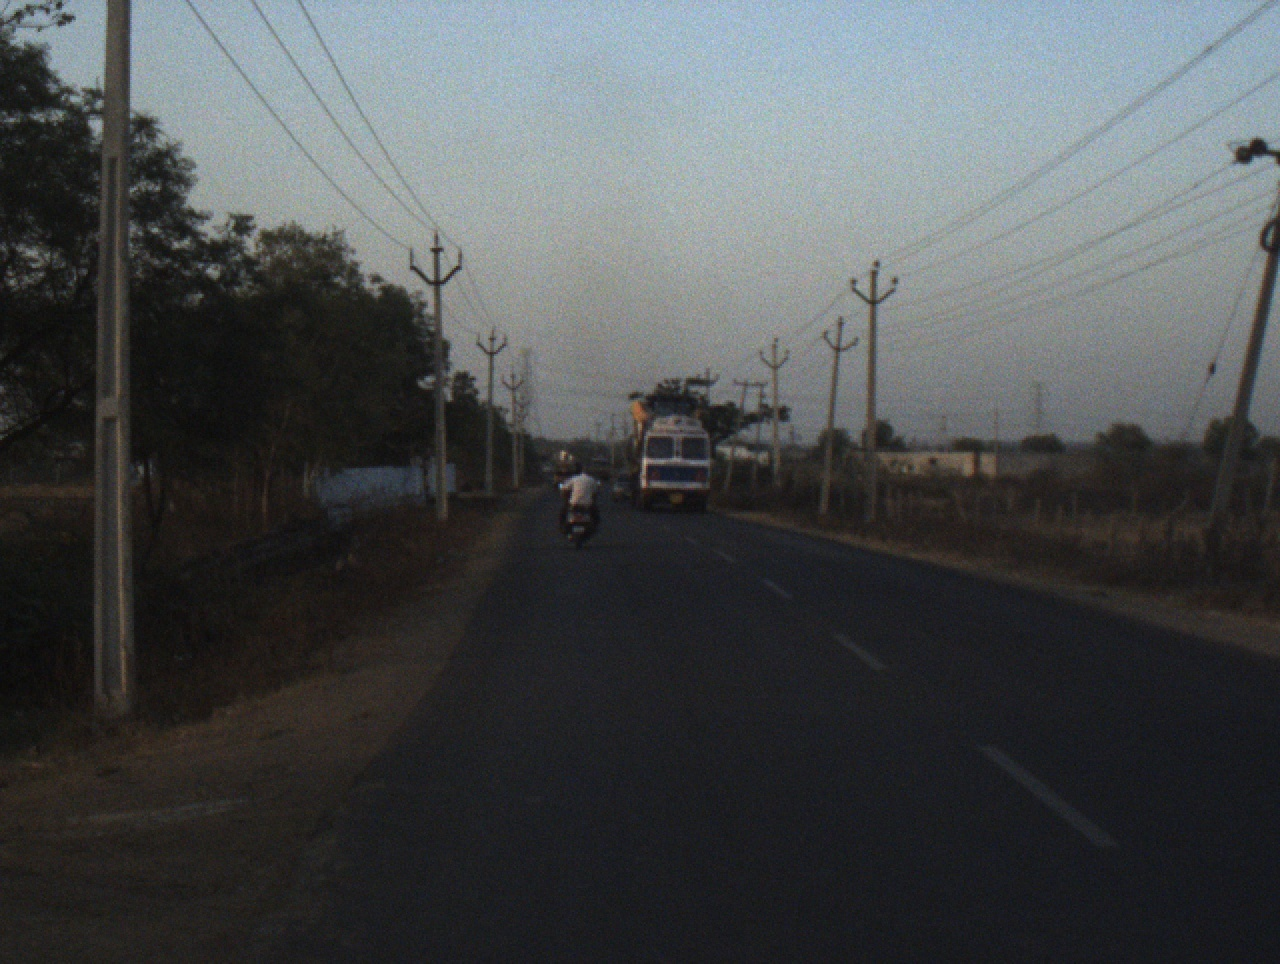autorickshaw: (548, 461, 577, 489)
car: (610, 473, 632, 507)
motorcycle: (557, 479, 607, 552)
rider: (557, 457, 603, 536)
truck: (625, 402, 720, 513), (587, 455, 614, 483)
